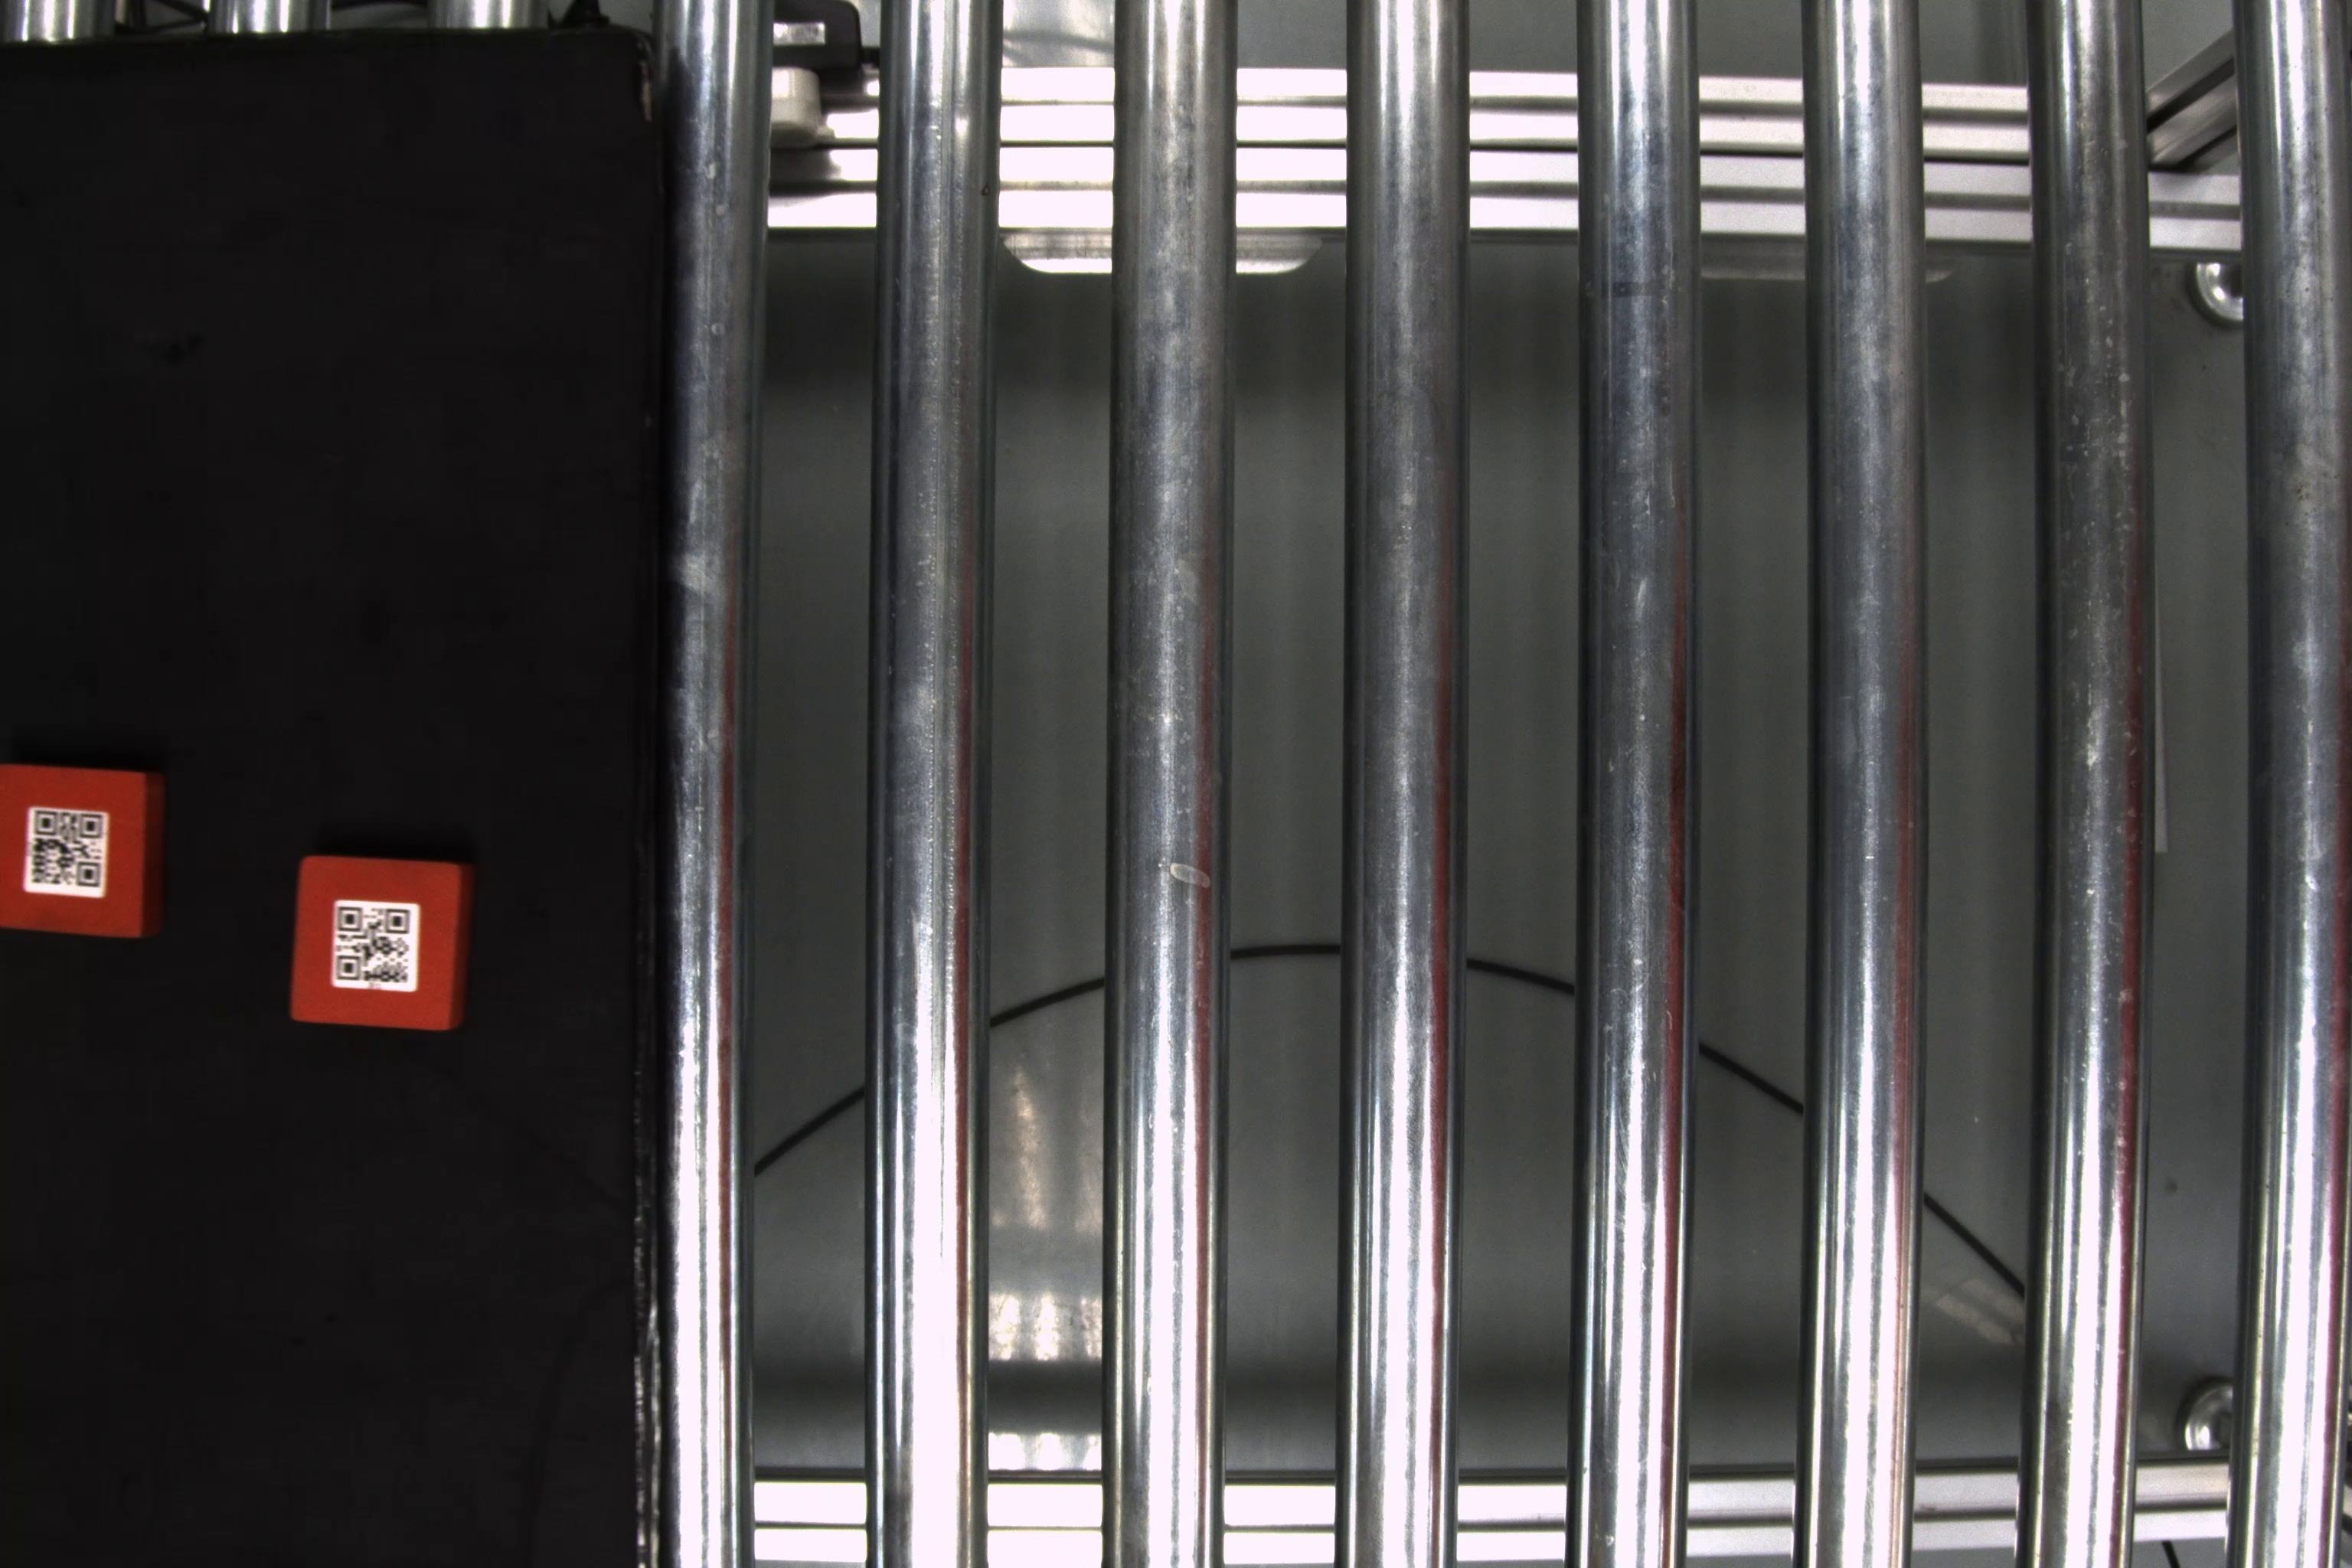wood: (287, 850, 478, 1041), (2, 754, 173, 948)
